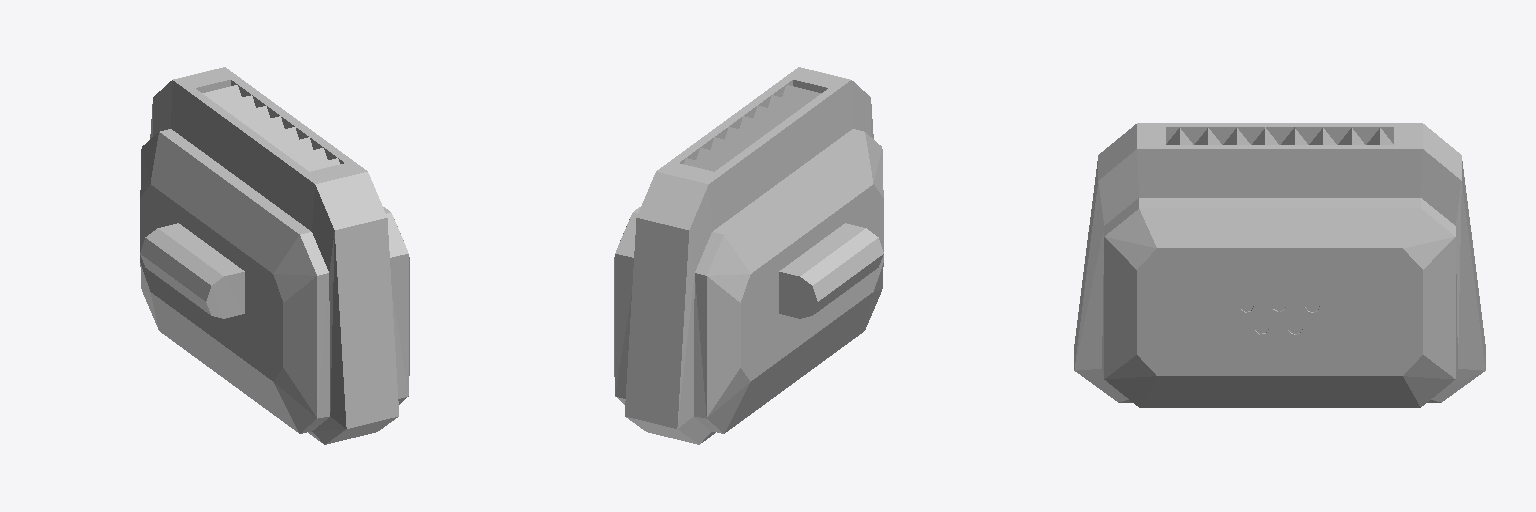
File: BF_Stupid_Halo_Motor.obj
The picture shows the model from 3 angles: view 1: azimuth 30°, elevation 25°; view 2: azimuth 150°, elevation 25°; view 3: azimuth 270°, elevation 25°; orthographic projection.
Visible parts, largest first — view 1: m_BF_Wheel_Large_Side_244_Motor.002; view 2: m_BF_Wheel_Large_Side_244_Motor.002; view 3: m_BF_Wheel_Large_Side_244_Motor.002.
Boxes of the visible parts, x1=… form: m_BF_Wheel_Large_Side_244_Motor.002: x1=140, y1=67, x2=409, y2=444; m_BF_Wheel_Large_Side_244_Motor.002: x1=614, y1=67, x2=883, y2=444; m_BF_Wheel_Large_Side_244_Motor.002: x1=1074, y1=123, x2=1485, y2=407.
Bounding box in the file's own units: 1.81 × 2.64 × 3.88.